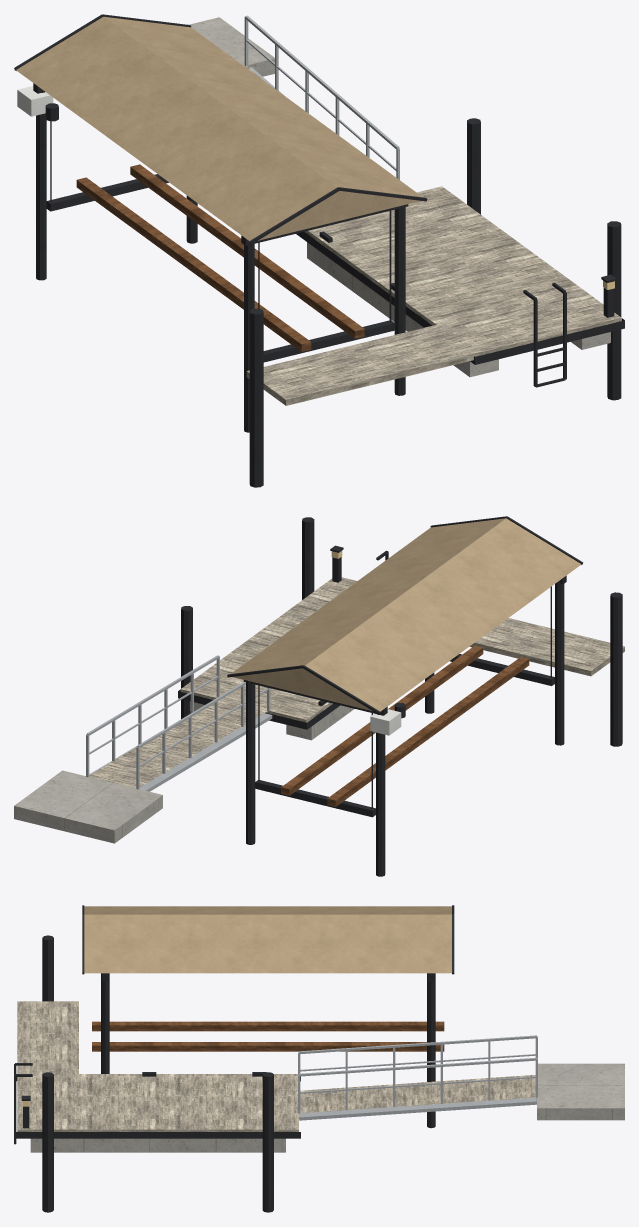
Rendered from desert_dock_lift.fbx.
3 views of the same model, one above another, from view 1: azimuth 30°, elevation 25°; view 2: azimuth 150°, elevation 25°; view 3: azimuth 270°, elevation 25° (orthographic). The views are drawn at different scales.
Visible parts, largest first — view 1: desert_dock_lift_LOD0; view 2: desert_dock_lift_LOD0; view 3: desert_dock_lift_LOD0.
Boxes of the visible parts, x1=… form: desert_dock_lift_LOD0: x1=14, y1=14, x2=624, y2=487; desert_dock_lift_LOD0: x1=14, y1=516, x2=624, y2=876; desert_dock_lift_LOD0: x1=14, y1=905, x2=624, y2=1212.
Size of what is drawn, in the model's own units: 7.61 by 5 by 13.87.
1 material, 1 textured.
